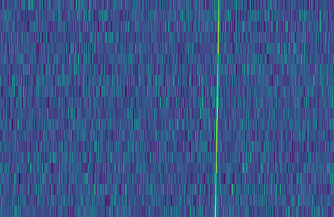signal: (211, 0, 223, 217)
